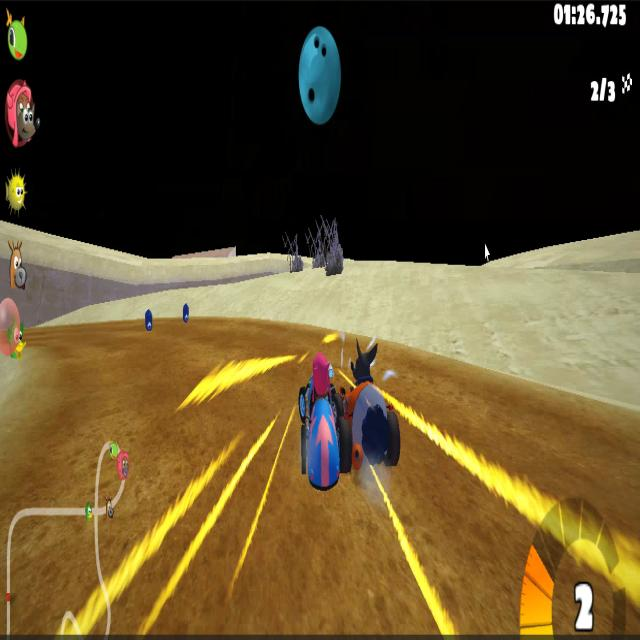player_kart: (296, 367, 346, 482)
track: (30, 354, 288, 640), (293, 485, 502, 623), (415, 444, 640, 474), (411, 360, 495, 424), (23, 322, 87, 348), (140, 336, 322, 344), (89, 320, 140, 344)
